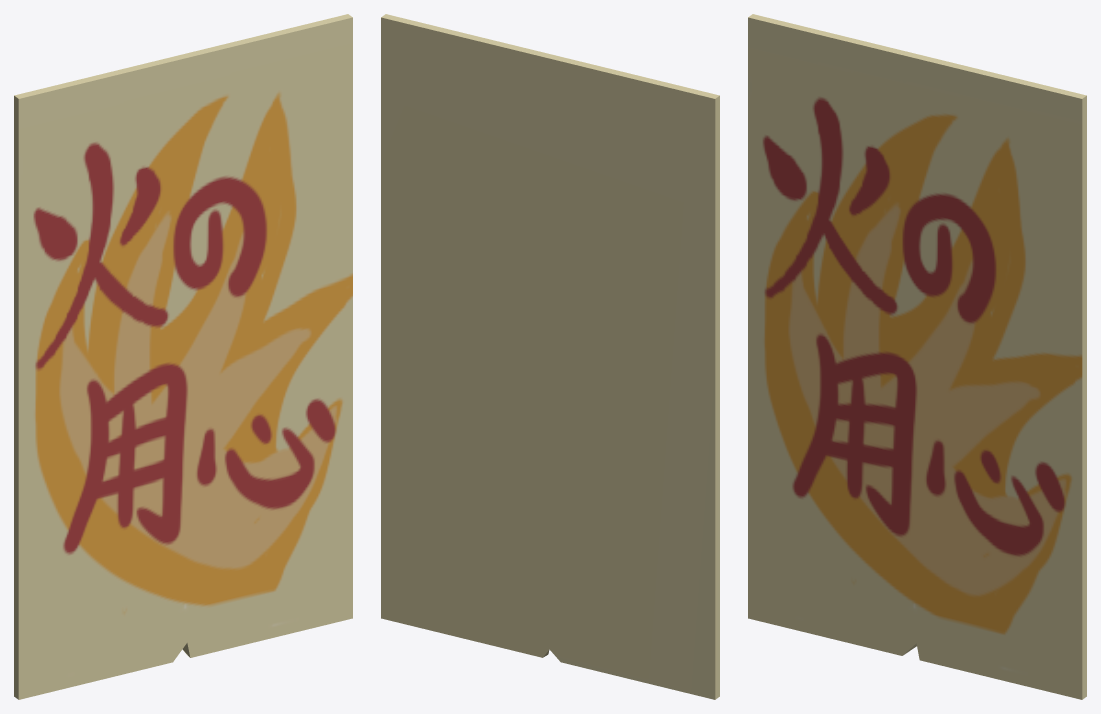
The model's file is Poster_AwareOfFire.gltf.
3 views of the same model, side by side, from view 1: azimuth 30°, elevation 25°; view 2: azimuth 150°, elevation 25°; view 3: azimuth 330°, elevation 25° (orthographic).
Parts seen in each view (by area): view 1: Poster_AwareOfFire; view 2: Poster_AwareOfFire; view 3: Poster_AwareOfFire.
Part boxes in pixels (<box>): Poster_AwareOfFire: <box>14,14,352,699</box>; Poster_AwareOfFire: <box>381,14,719,699</box>; Poster_AwareOfFire: <box>748,14,1086,699</box>.
Size of the model in its own units: 0.493 by 0.8474 by 0.0121.
1 material, 1 textured.
